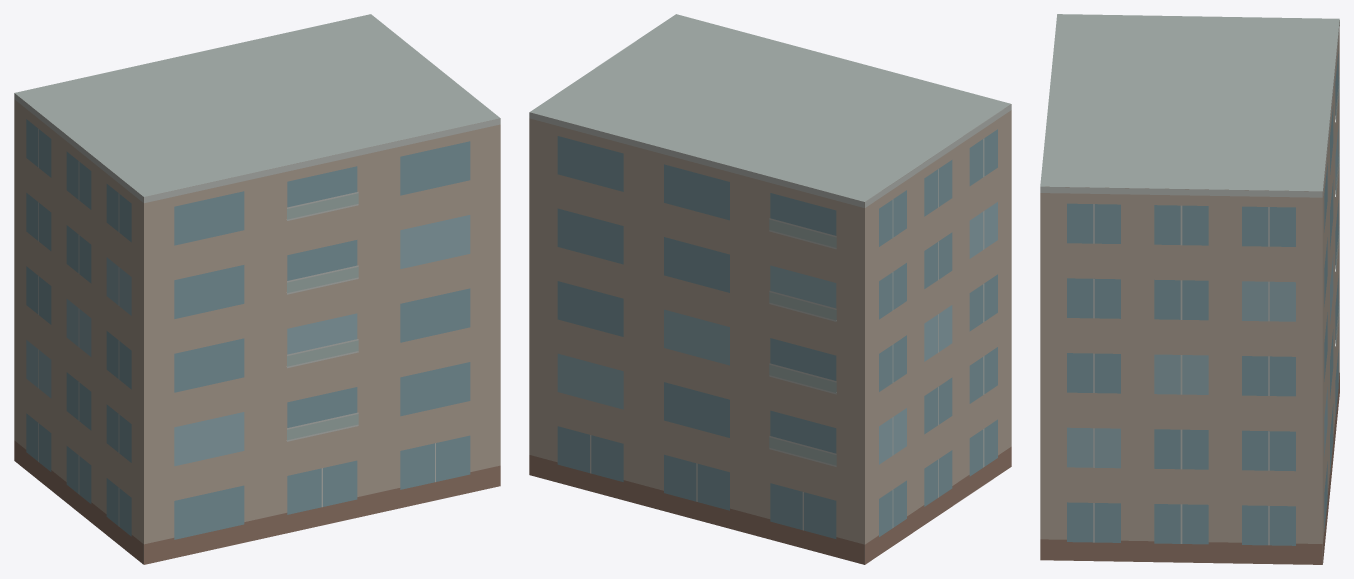
The model's file is survey-upis-32877342.glb.
The picture shows the model from 3 angles, left to right: view 1: azimuth 30°, elevation 25°; view 2: azimuth 150°, elevation 25°; view 3: azimuth 270°, elevation 25°; orthographic projection. The views are drawn at different scales.
Parts seen in each view (by area): view 1: survey-upis-32877342.tmp; view 2: survey-upis-32877342.tmp; view 3: survey-upis-32877342.tmp.
Boxes of the visible parts, left/top/right/bottom form: survey-upis-32877342.tmp: left=14, top=14, right=500, bottom=564; survey-upis-32877342.tmp: left=529, top=14, right=1011, bottom=564; survey-upis-32877342.tmp: left=1040, top=14, right=1339, bottom=564.
Size of the model in its own units: 14.62 by 14.35 by 10.44.
